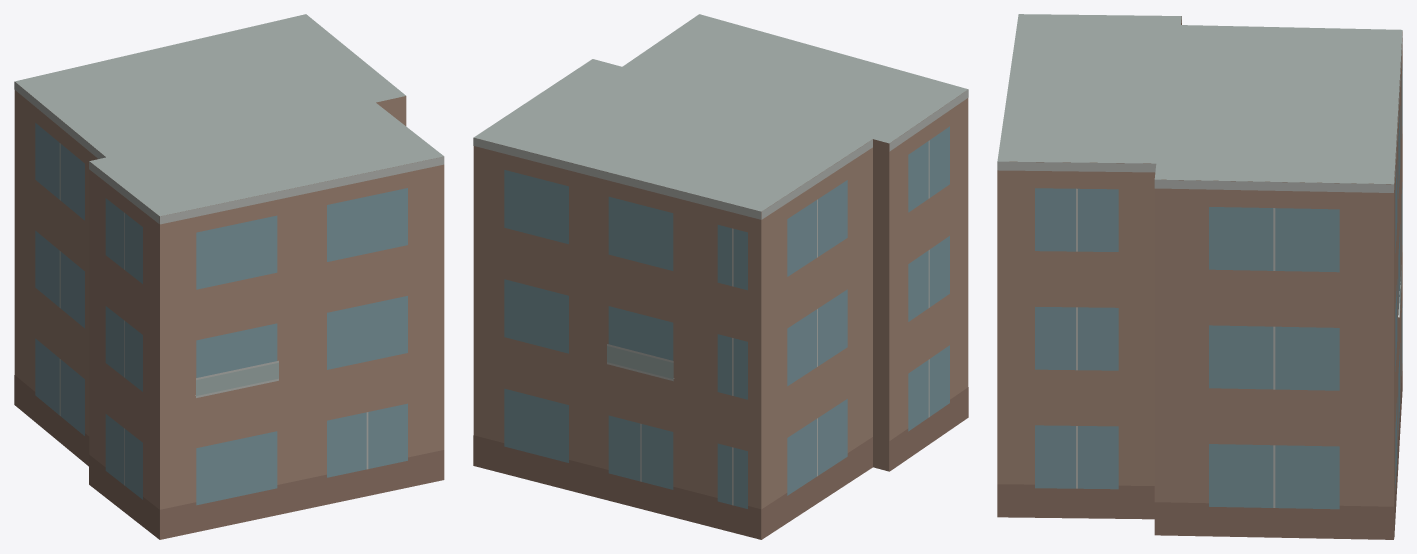
Rendered from survey-upis-32490769.glb.
The picture shows the model from 3 angles, left to right: view 1: azimuth 30°, elevation 25°; view 2: azimuth 150°, elevation 25°; view 3: azimuth 270°, elevation 25°; orthographic projection. The views are drawn at different scales.
Visible parts, largest first — view 1: survey-upis-32490769.tmp; view 2: survey-upis-32490769.tmp; view 3: survey-upis-32490769.tmp.
Boxes of the visible parts, left/top/right/bottom form: survey-upis-32490769.tmp: left=14, top=14, right=444, bottom=539; survey-upis-32490769.tmp: left=473, top=14, right=968, bottom=539; survey-upis-32490769.tmp: left=997, top=14, right=1402, bottom=539.
Bounding box in the file's own units: 9.96 × 9.7 × 10.03.
